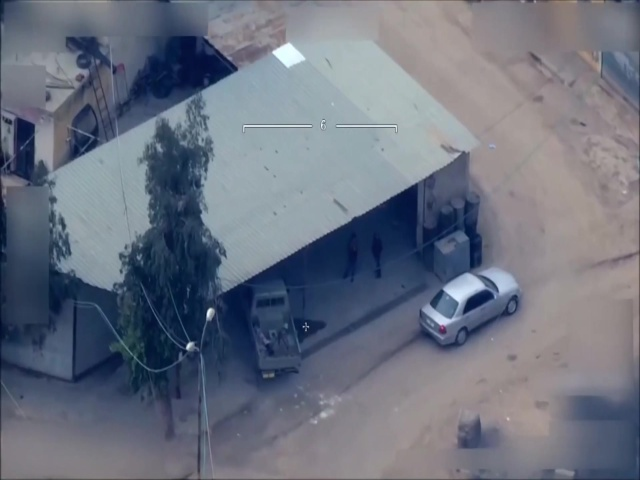person: (341, 231, 361, 285), (370, 232, 385, 279)
vehicle: (417, 266, 521, 348), (239, 275, 303, 380)
